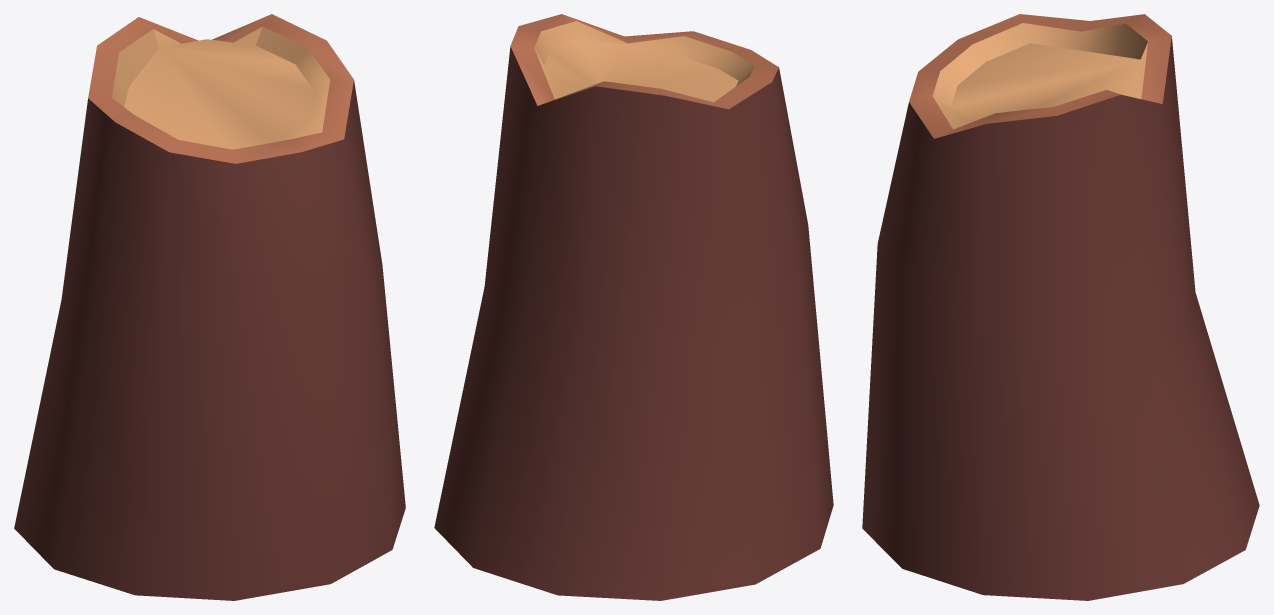
Rendered from ArbolCortado_03.fbx.
The picture shows the model from 3 angles, left to right: view 1: azimuth 30°, elevation 25°; view 2: azimuth 150°, elevation 25°; view 3: azimuth 270°, elevation 25°; orthographic projection. The views are drawn at different scales.
Visible parts, largest first — view 1: ArbolCortado_03; view 2: ArbolCortado_03; view 3: ArbolCortado_03.
Part boxes in pixels (x1,y1,x2,y2): ArbolCortado_03: [14, 14, 405, 600]; ArbolCortado_03: [434, 14, 833, 600]; ArbolCortado_03: [862, 14, 1259, 600].
Bounding box in the file's own units: 327 × 430 × 327.
